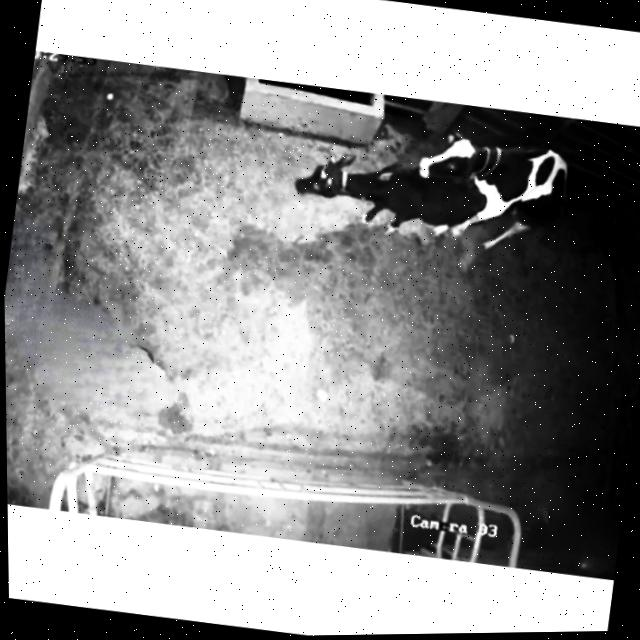ride: (396, 113, 590, 280)
